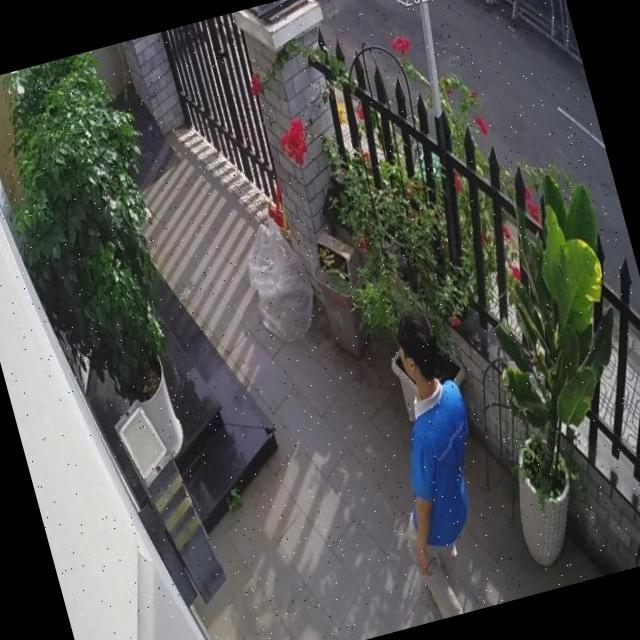person: (350, 302, 516, 621)
